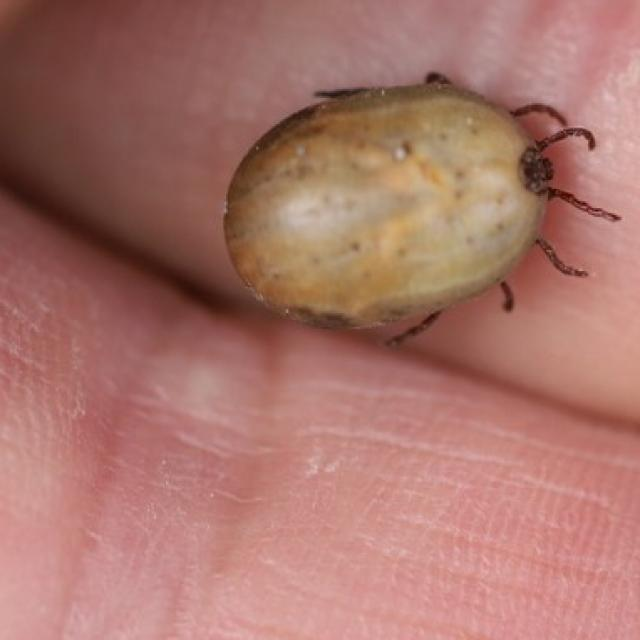Dermacentor Reticulatus-F-Fed: (225, 72, 622, 348)
